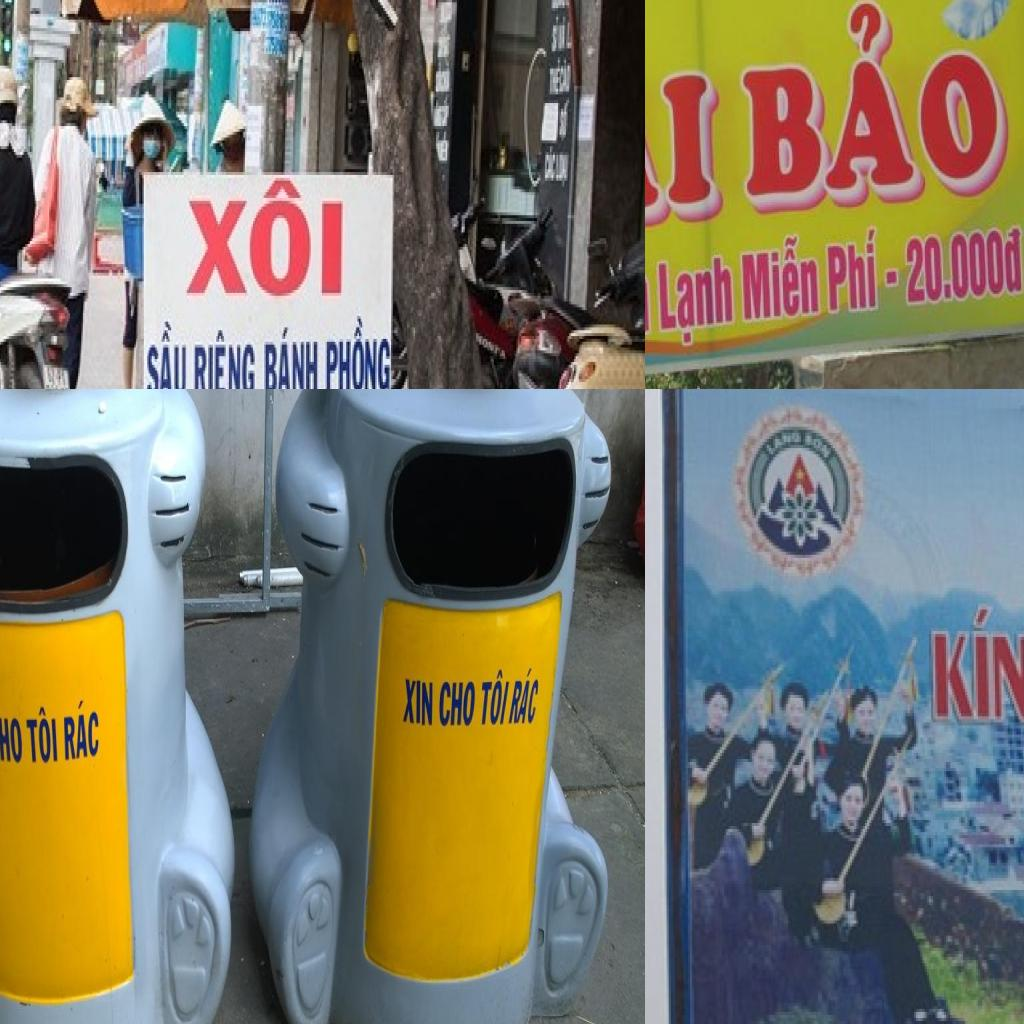text: (735, 0, 1017, 218), (645, 22, 733, 258), (184, 175, 346, 301), (931, 603, 1024, 725), (904, 219, 1024, 313), (652, 250, 738, 354), (821, 222, 902, 322), (737, 232, 823, 326), (325, 310, 392, 389), (192, 327, 258, 389), (262, 324, 320, 389), (59, 688, 103, 767), (145, 319, 188, 389), (477, 663, 514, 733), (401, 667, 437, 735), (25, 700, 60, 768), (438, 672, 478, 730), (760, 424, 803, 463), (474, 327, 510, 368), (0, 710, 25, 768), (543, 143, 558, 184), (2, 0, 15, 8)
